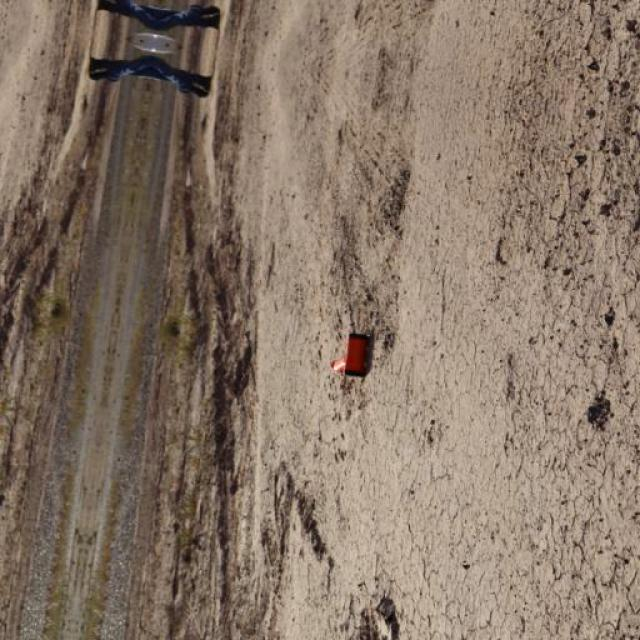mallet: (329, 330, 370, 376)
